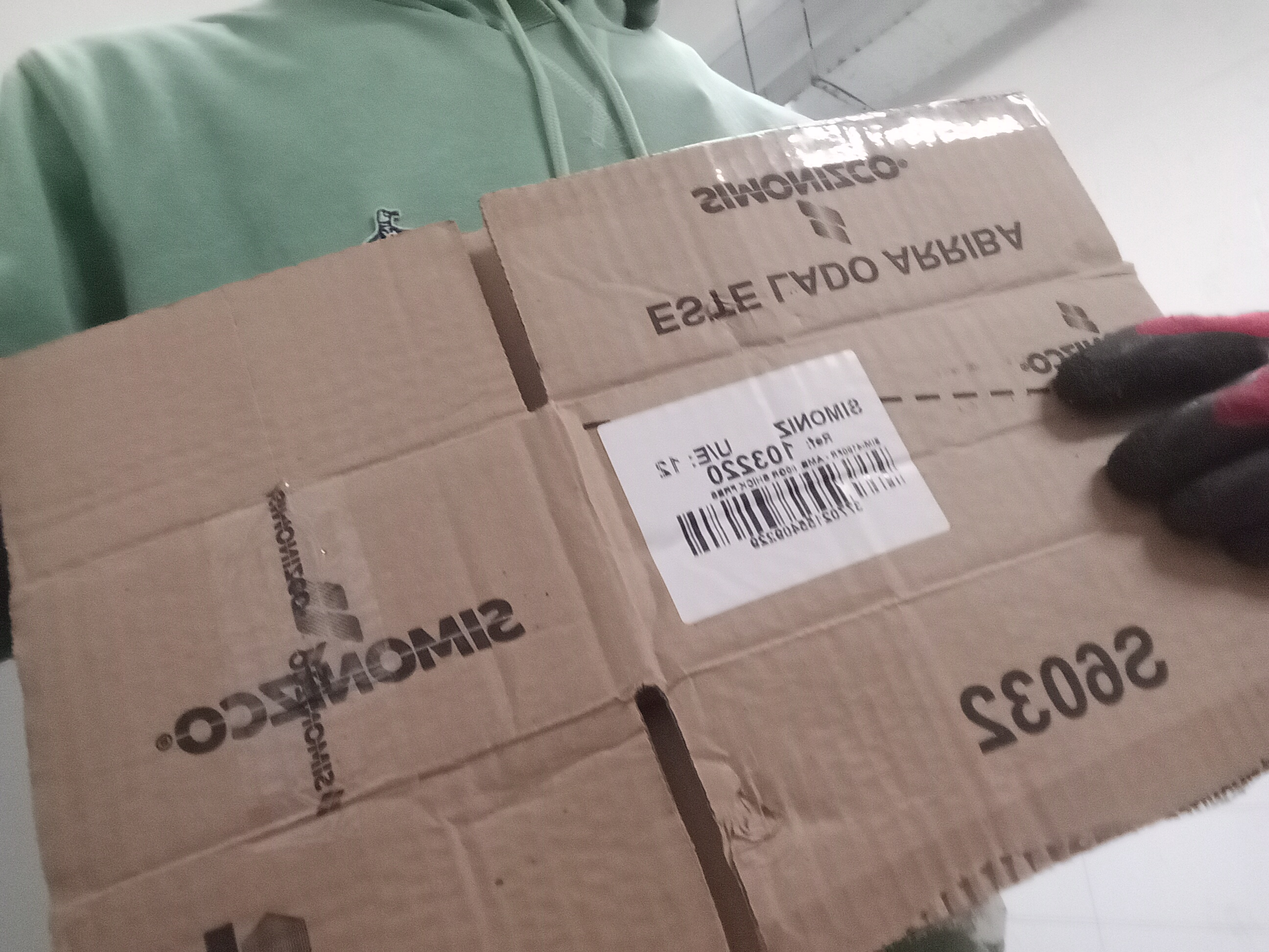Carton: (0, 92, 1262, 951)
